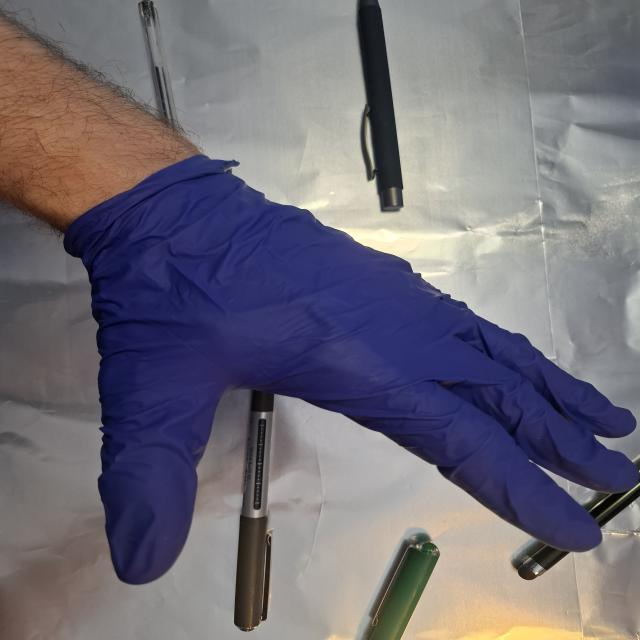glove_on: (66, 152, 640, 588)
